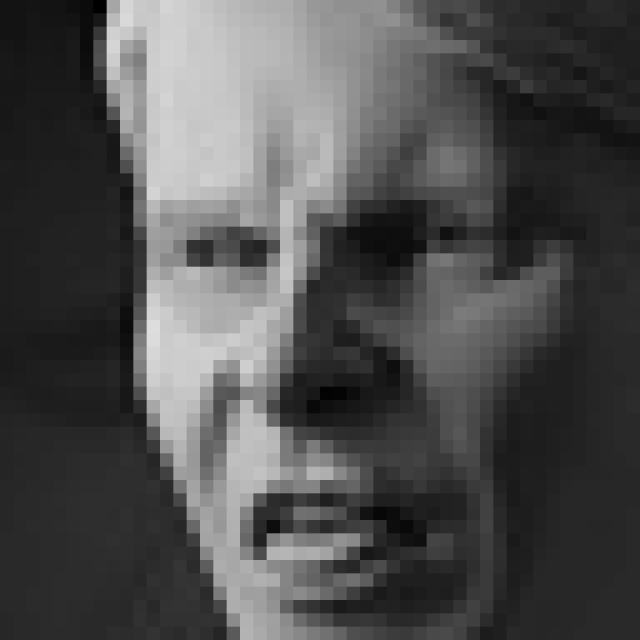disgust: (164, 182, 534, 622)
